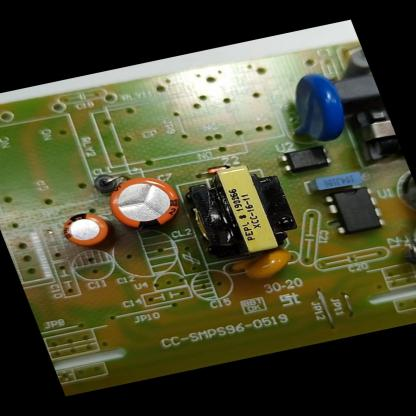Cap1: (96, 168, 194, 238)
Cap2: (49, 206, 121, 255)
Cap3: (386, 161, 416, 220)
Cap4: (404, 209, 416, 271)
MOSFET: (317, 178, 395, 240)
Mov: (266, 65, 362, 152)
Resistor: (328, 44, 376, 92)
Transformer: (169, 157, 309, 268), (337, 101, 406, 171)
